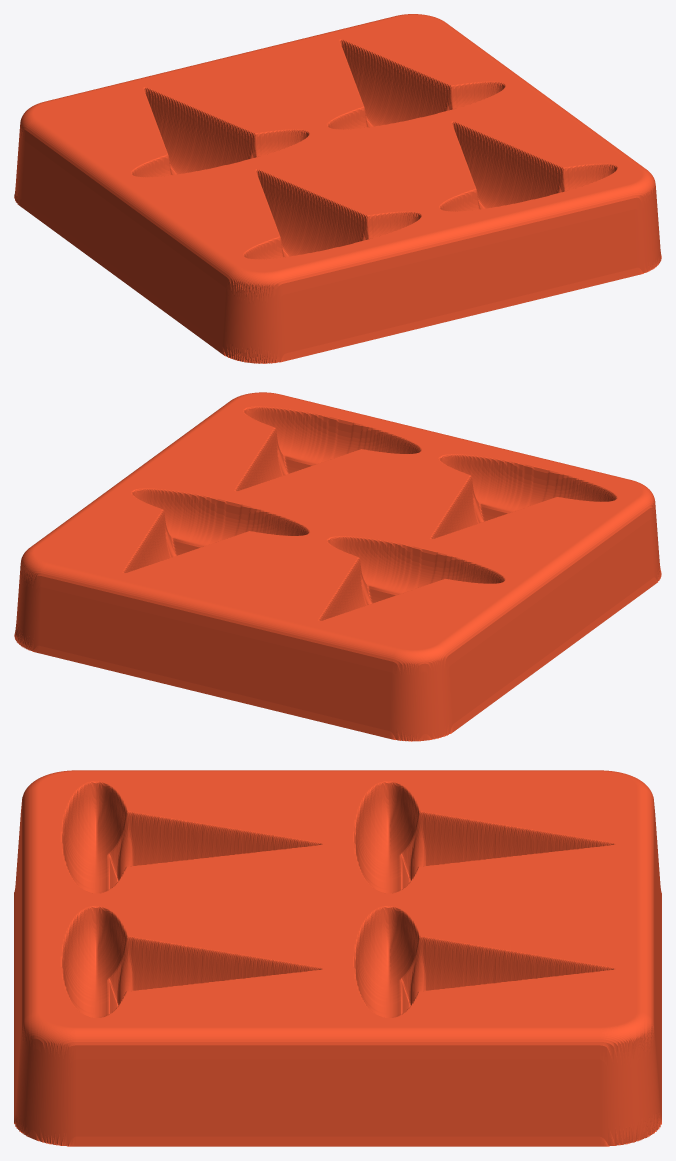
File: mold.glb
3 views of the same model, one above another, from view 1: azimuth 30°, elevation 25°; view 2: azimuth 150°, elevation 25°; view 3: azimuth 270°, elevation 25° (orthographic). The views are drawn at different scales.
Parts seen in each view (by area): view 1: geometry_0; view 2: geometry_0; view 3: geometry_0.
Boxes of the visible parts, left/top/right/bottom form: geometry_0: left=14, top=14, right=661, bottom=363; geometry_0: left=14, top=392, right=661, bottom=741; geometry_0: left=14, top=770, right=661, bottom=1146.
Bounding box in the file's own units: 0.0952 × 0.0175 × 0.0944.
